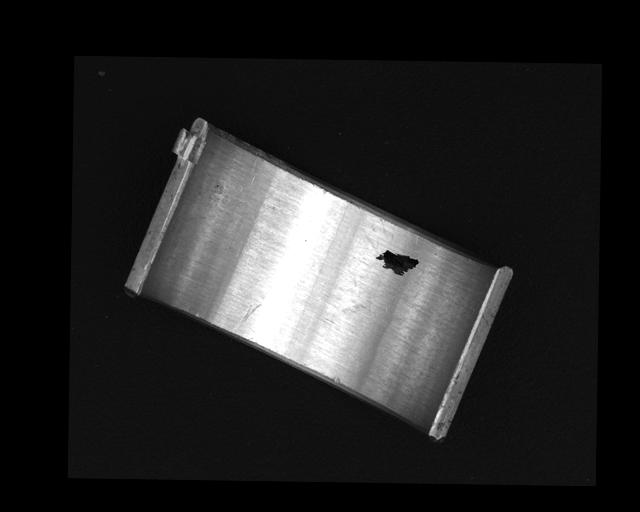blot: (340, 284, 397, 316), (374, 247, 420, 277)
bruise: (334, 375, 341, 384), (320, 189, 328, 196)
nick: (232, 302, 261, 335)
